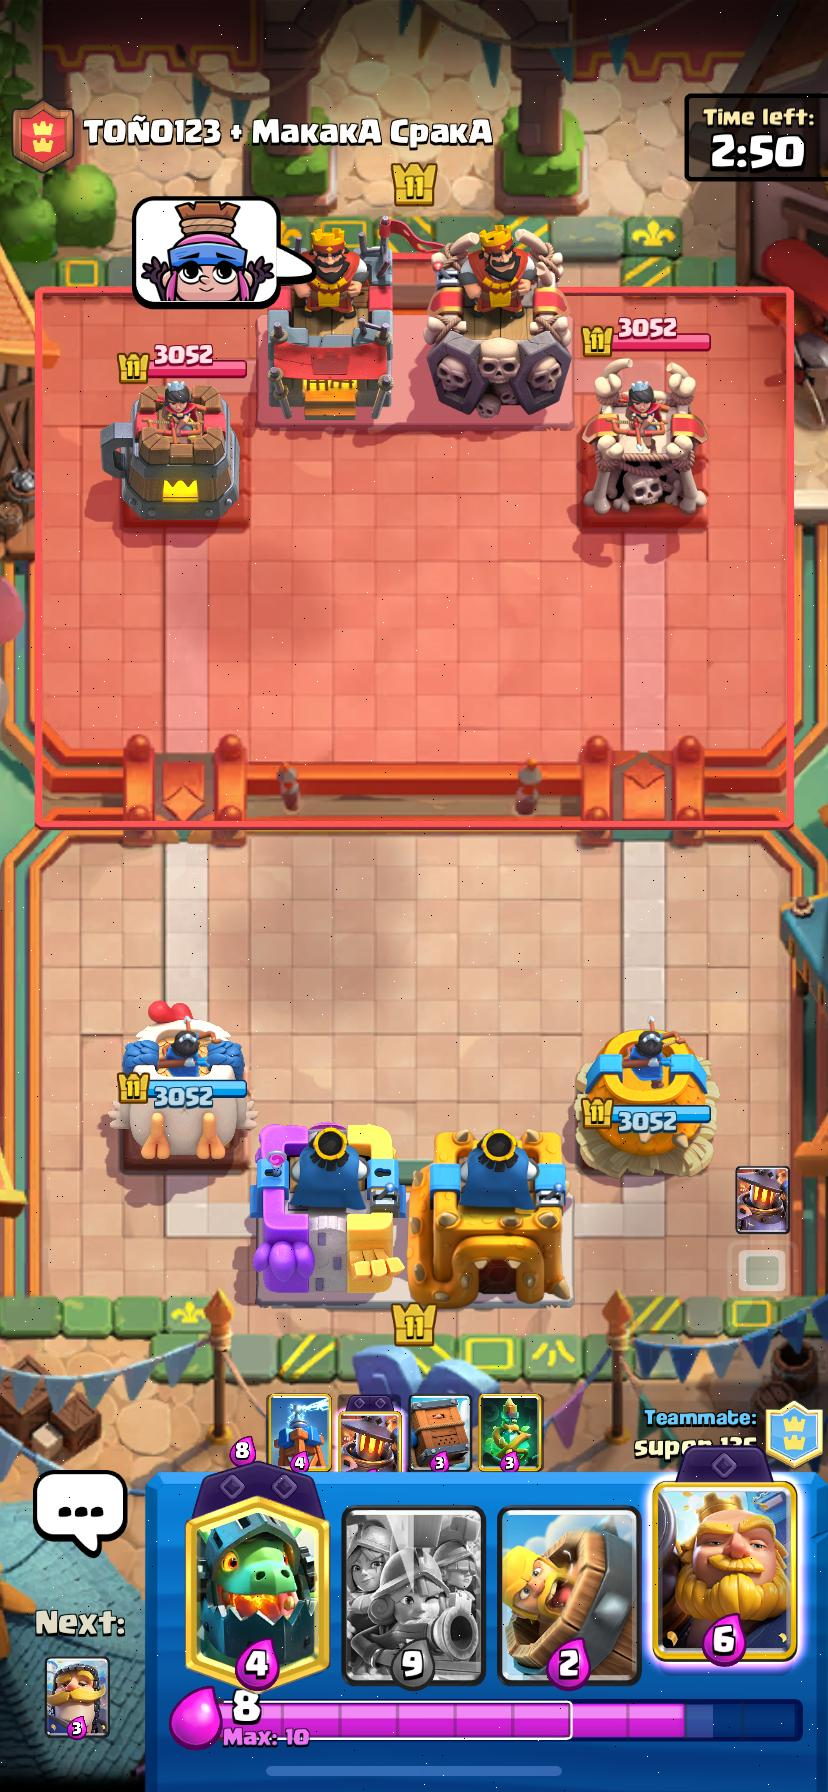EKingTower: (424, 227, 570, 418), (268, 219, 392, 423)
EnemyPrincessTower: (581, 359, 707, 514), (102, 381, 238, 521)
OwnKingTower: (408, 1129, 571, 1305), (252, 1123, 403, 1303)
OwnPrincessTower: (111, 1002, 254, 1160), (576, 1018, 716, 1175)
